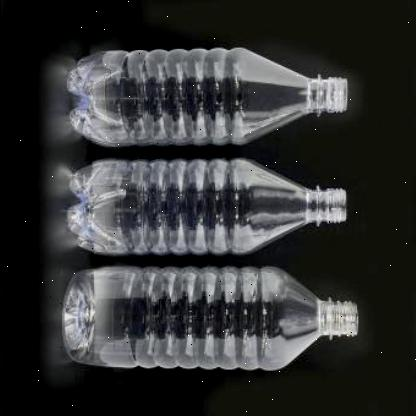Plastic Bottle: (60, 263, 362, 370), (64, 46, 348, 148), (67, 160, 346, 256)
